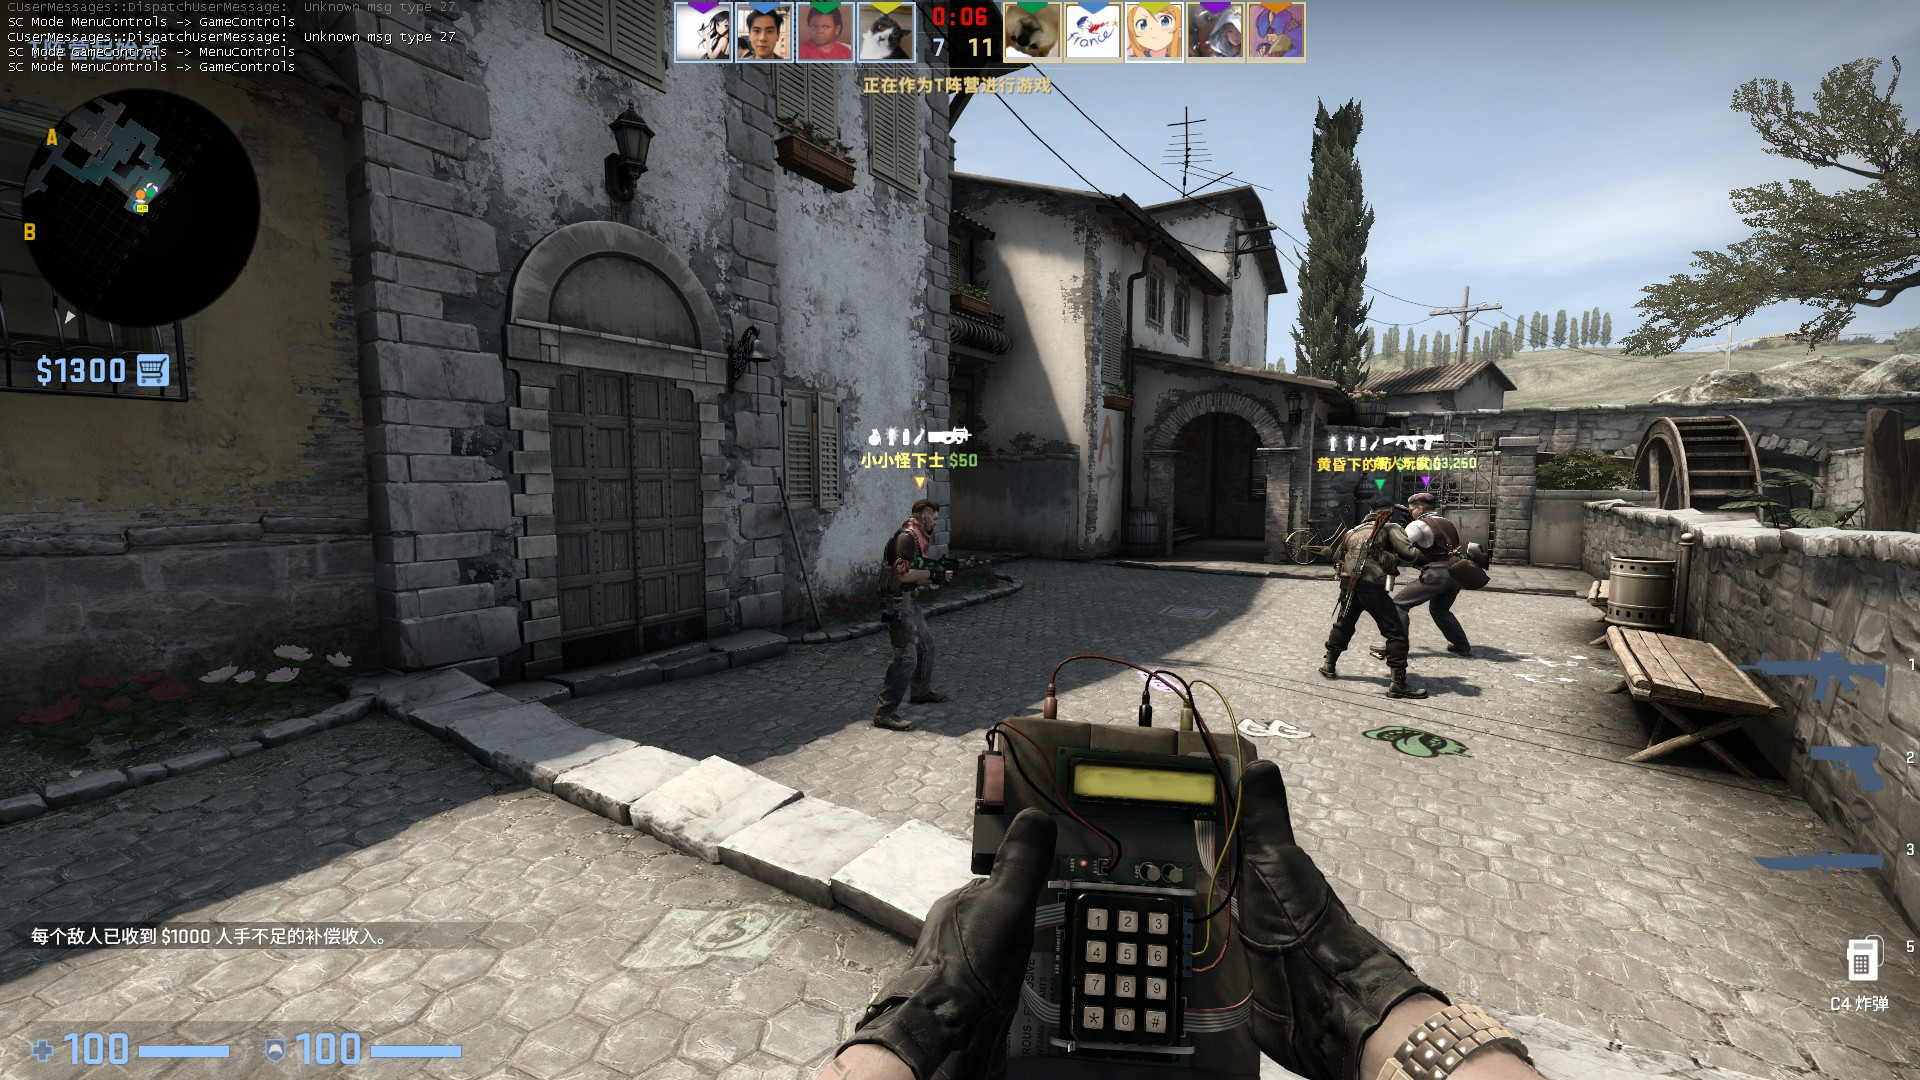head: (909, 496, 938, 536), (1404, 491, 1437, 516), (1367, 496, 1394, 522)
